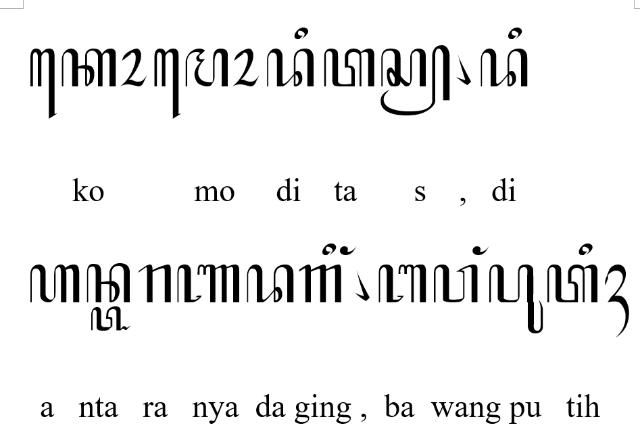-s: (380, 42, 450, 116)
_h1: (604, 264, 630, 338)
_t: (90, 305, 130, 331)
b: (377, 264, 427, 304)
d: (478, 48, 528, 88), (266, 48, 314, 88), (246, 264, 294, 304)
e1: (29, 48, 57, 120), (153, 48, 181, 120)
g: (298, 264, 342, 304)
h: (29, 264, 82, 304)
i: (508, 26, 522, 40), (322, 243, 336, 257), (294, 28, 308, 40), (578, 243, 592, 255)
k: (61, 47, 117, 87)
kom: (454, 52, 472, 86), (354, 270, 370, 302)
m: (185, 48, 229, 88)
n: (87, 262, 131, 304)
ng: (472, 246, 490, 256), (339, 246, 356, 256)
ny1: (176, 264, 240, 305)
o: (119, 47, 147, 87), (232, 47, 260, 87)
pu: (488, 264, 544, 334)
r: (138, 264, 172, 304)
t: (323, 48, 375, 88), (546, 264, 598, 304)
w: (434, 264, 478, 304)
